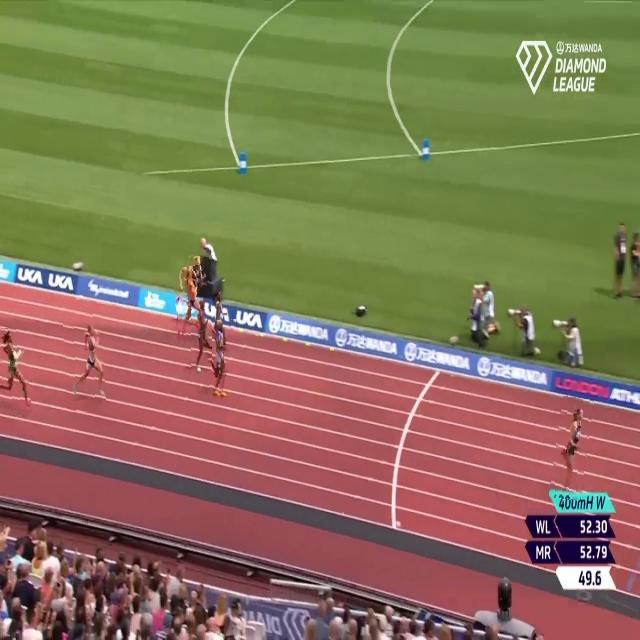athlete: (64, 313, 105, 412), (553, 397, 591, 501), (0, 326, 29, 415), (174, 268, 207, 346), (178, 252, 209, 334), (210, 318, 232, 404), (191, 298, 212, 380), (212, 292, 232, 368)
